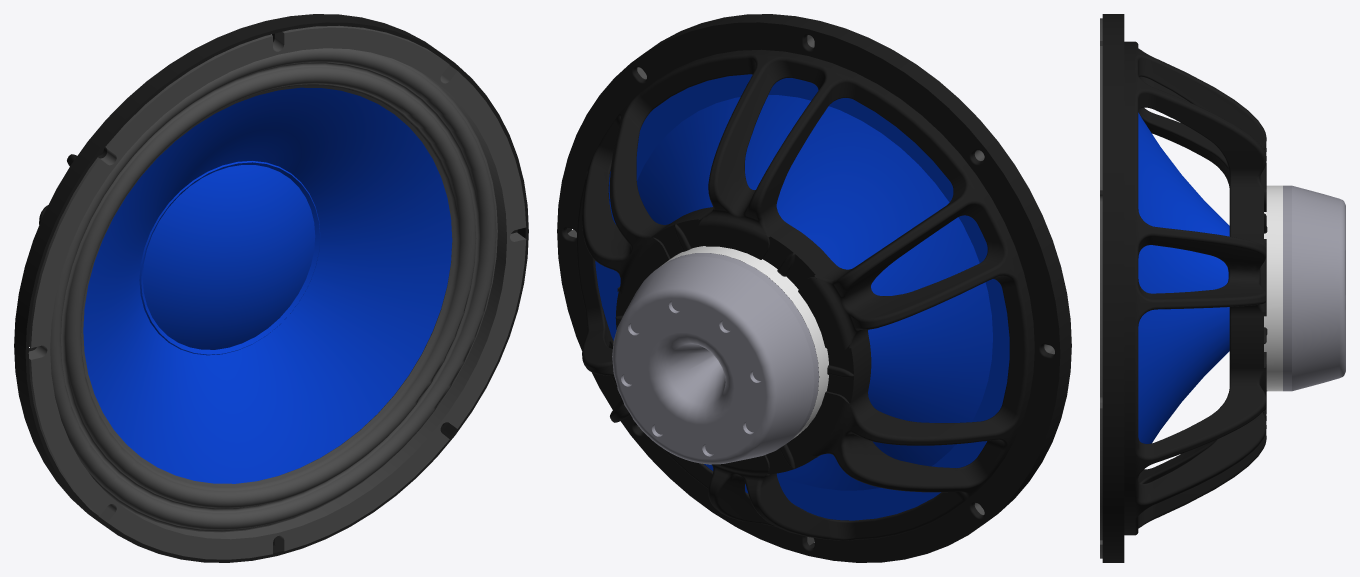
Rendered from BC_12NDL76.glb.
3 views of the same model, side by side, from view 1: azimuth 30°, elevation 25°; view 2: azimuth 150°, elevation 25°; view 3: azimuth 270°, elevation 25° (orthographic). The views are drawn at different scales.
Parts seen in each view (by area): view 1: B&C 12NDL76; view 2: B&C 12NDL76; view 3: B&C 12NDL76.
Part boxes in pixels (left/top/right/bottom): B&C 12NDL76: left=14, top=14, right=528, bottom=562; B&C 12NDL76: left=557, top=14, right=1071, bottom=562; B&C 12NDL76: left=1100, top=14, right=1345, bottom=562.
Bounding box in the file's own units: 0.315 × 0.315 × 0.141.
